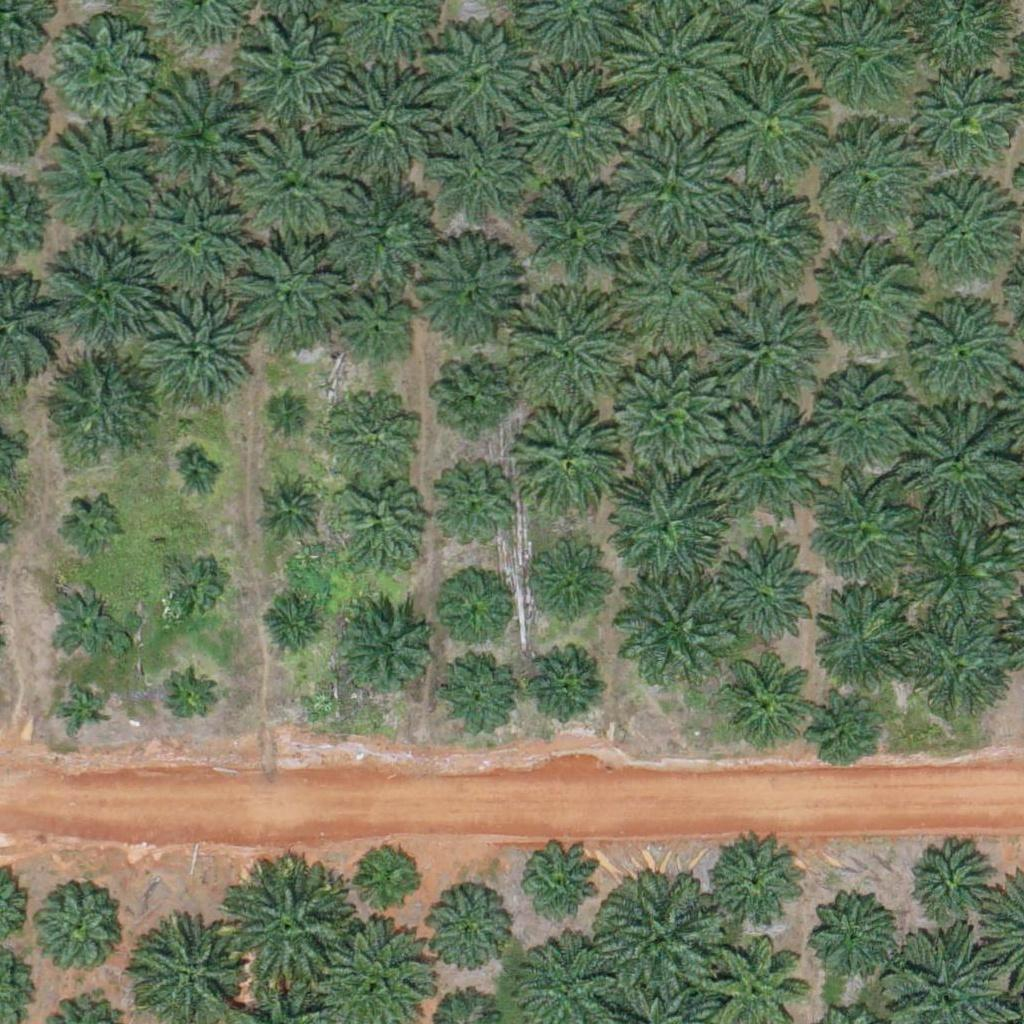Kelapa_Sawit: (596, 876, 721, 1002), (226, 871, 351, 997), (142, 75, 267, 201), (609, 2, 734, 127), (137, 183, 250, 297), (47, 128, 160, 242), (45, 13, 158, 127), (903, 615, 1016, 728), (905, 512, 1018, 625), (909, 400, 1022, 513), (808, 121, 921, 234), (807, 466, 920, 579), (717, 71, 830, 184), (707, 176, 820, 289), (704, 294, 817, 407), (617, 568, 730, 681), (507, 400, 620, 513), (410, 240, 523, 353), (328, 68, 441, 181), (314, 169, 427, 282), (135, 292, 248, 405), (48, 234, 161, 347), (39, 349, 152, 462), (425, 20, 538, 133), (228, 229, 340, 343), (910, 284, 1022, 397), (906, 171, 1018, 284), (713, 398, 825, 511), (709, 544, 821, 657), (616, 125, 728, 238), (614, 234, 726, 347), (612, 353, 724, 466), (608, 468, 720, 581), (510, 290, 622, 403), (239, 127, 351, 240), (514, 63, 626, 176), (234, 17, 346, 130), (707, 834, 807, 935), (28, 876, 128, 977), (821, 240, 921, 341), (812, 364, 912, 465), (813, 586, 913, 687), (524, 187, 624, 288), (333, 599, 433, 700), (915, 70, 1015, 170), (423, 888, 511, 977), (717, 656, 805, 744), (328, 390, 416, 478), (336, 484, 424, 572), (515, 842, 602, 930), (522, 537, 609, 625), (433, 134, 520, 222), (436, 360, 511, 436), (914, 851, 989, 927), (815, 899, 890, 975), (530, 653, 605, 729), (438, 475, 513, 551), (441, 657, 516, 733), (334, 293, 409, 369), (49, 583, 124, 658), (438, 580, 501, 643), (262, 598, 325, 661), (359, 845, 422, 908), (157, 553, 220, 616), (812, 697, 875, 760), (65, 495, 127, 558), (163, 675, 213, 726), (56, 684, 106, 735), (265, 483, 315, 533), (273, 394, 311, 432), (178, 456, 215, 494)
